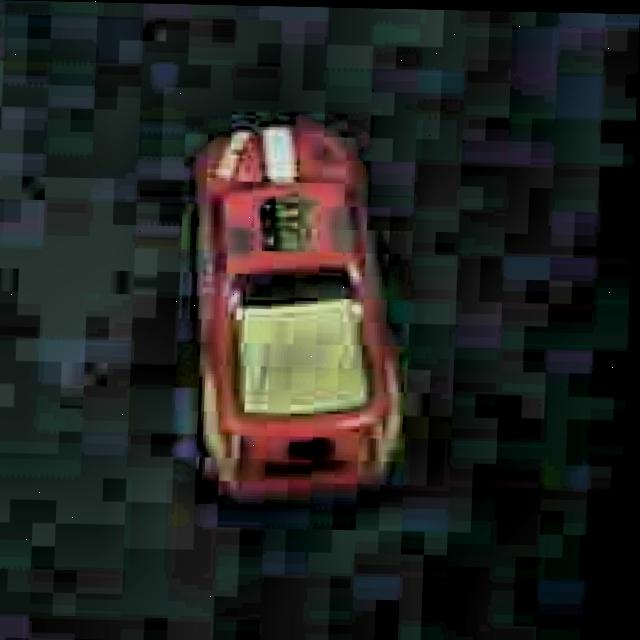car: (172, 108, 429, 512)
